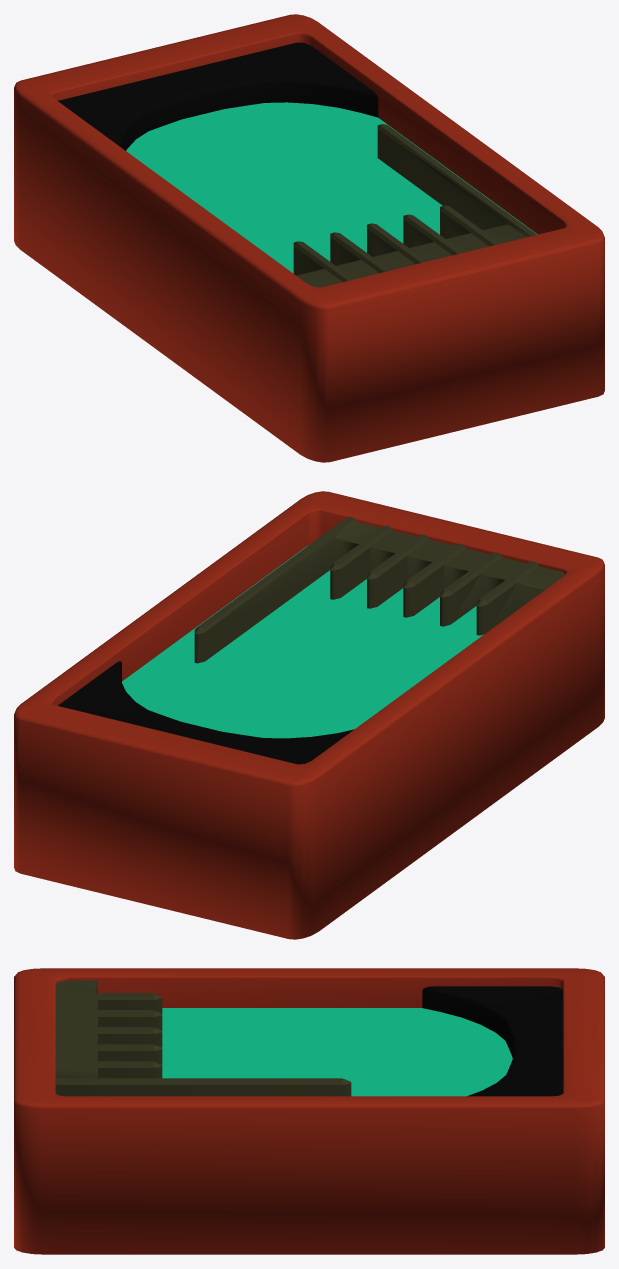
Rendered from pinball_case.gltf.
3 renders of one model, top to bottom at view 1: azimuth 30°, elevation 25°; view 2: azimuth 150°, elevation 25°; view 3: azimuth 270°, elevation 25°, orthographic. The views are drawn at different scales.
Parts seen in each view (by area): view 1: root0, root1, root3, root2; view 2: root0, root1, root2, root3; view 3: root0, root1, root2, root3.
Boxes of the visible parts, x1=… form: root0: x1=14, y1=14, x2=604, y2=462; root1: x1=126, y1=102, x2=537, y2=273; root3: x1=58, y1=42, x2=378, y2=150; root2: x1=293, y1=124, x2=536, y2=287; root0: x1=14, y1=491, x2=604, y2=939; root1: x1=122, y1=546, x2=483, y2=738; root2: x1=194, y1=516, x2=565, y2=663; root3: x1=58, y1=661, x2=353, y2=764; root0: x1=14, y1=968, x2=604, y2=1254; root1: x1=162, y1=1008, x2=512, y2=1096; root2: x1=55, y1=980, x2=351, y2=1096; root3: x1=422, y1=986, x2=563, y2=1096.
Size of the model in its own units: 2 by 1 by 3.6.
